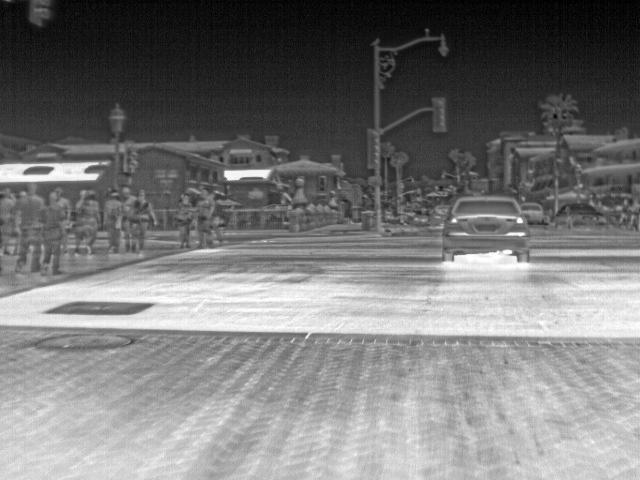car: (440, 195, 530, 262), (555, 198, 607, 232), (517, 202, 548, 230)
person: (41, 189, 69, 275), (18, 183, 42, 270), (130, 189, 159, 253), (73, 193, 99, 253), (106, 193, 126, 254), (196, 194, 216, 249), (180, 194, 198, 247), (122, 186, 140, 214)
